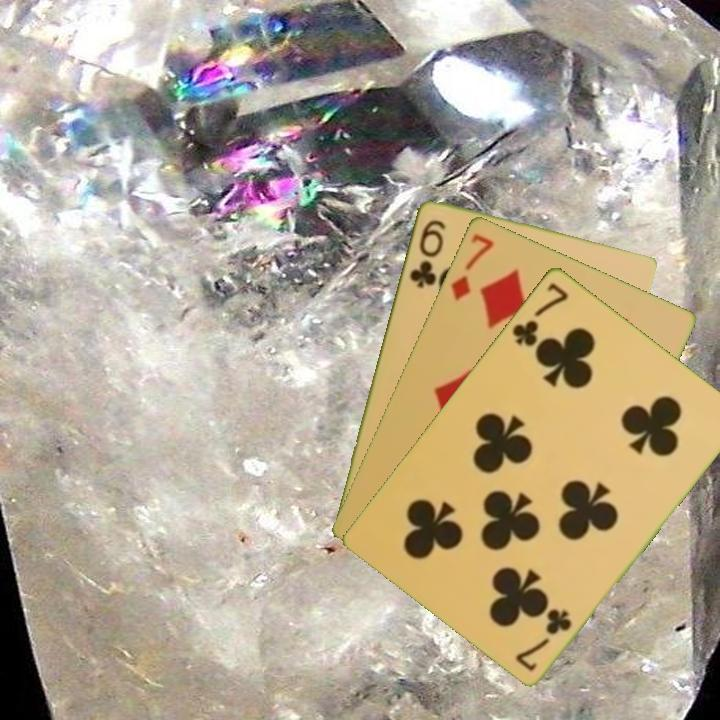6c: (405, 215, 448, 291)
7c: (508, 278, 572, 349), (512, 604, 575, 673)
7d: (447, 229, 497, 303)
